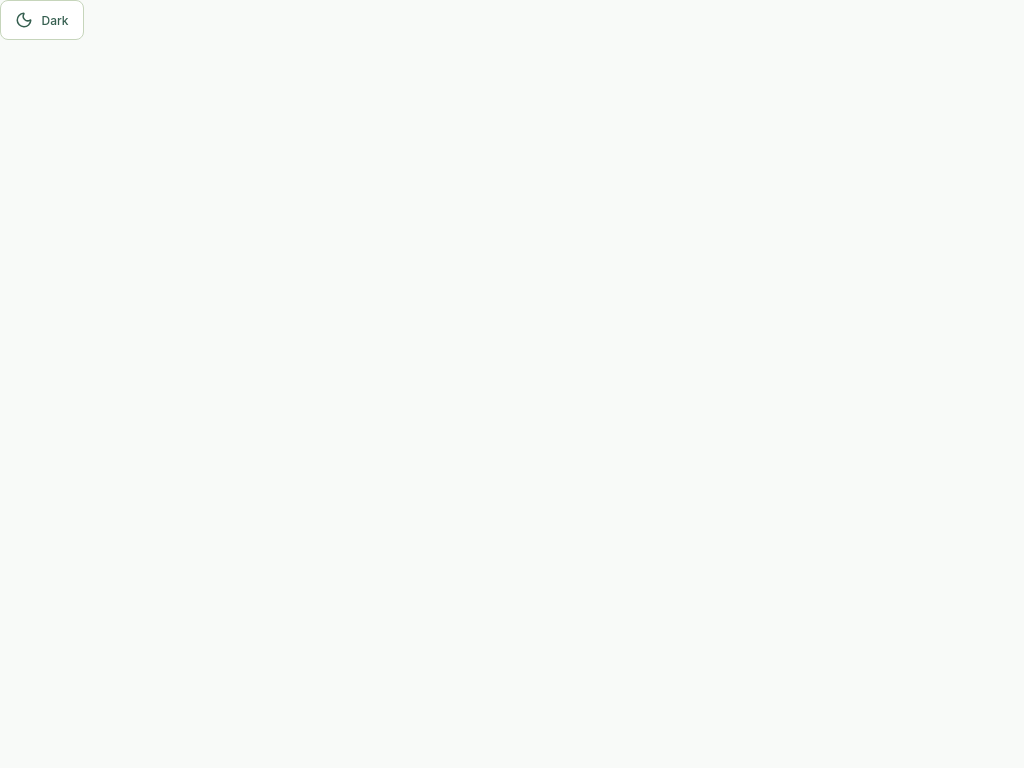
Test: Theme preference › defaults to light, changes the document theme, and saves the preference
This screenshot has width=1024, height=768.
Click the button with aria-label "Switch to dark theme" at (42,20), box [0, 0, 84, 40]
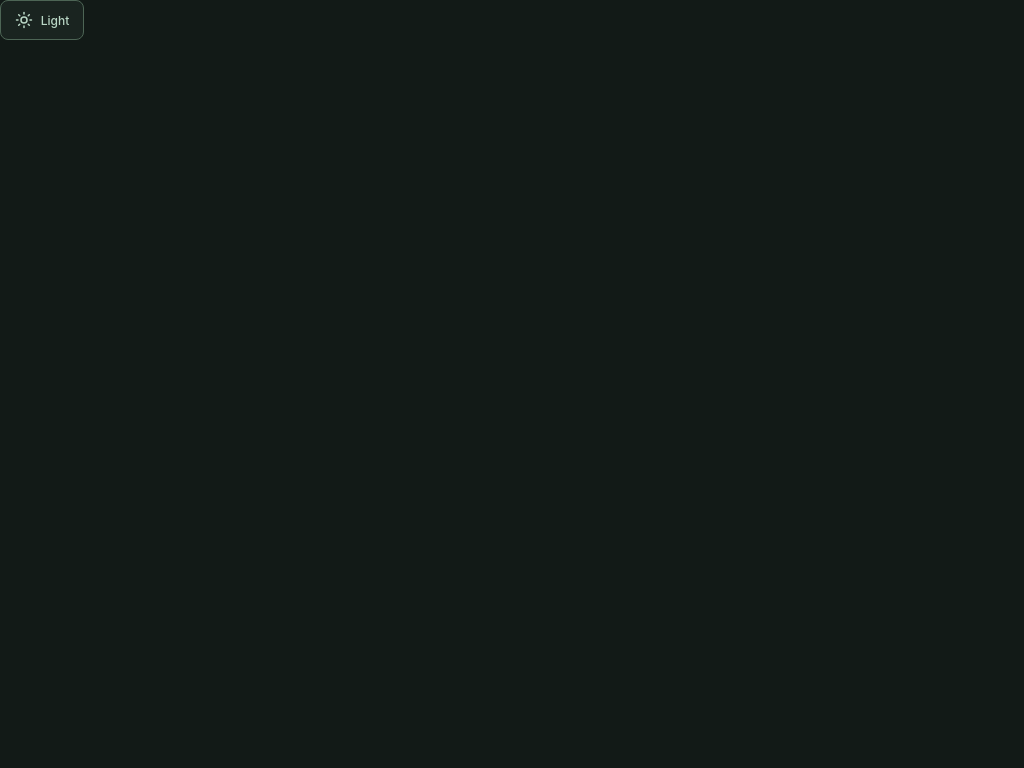
Expected: the button with aria-label "Switch to light theme" is pressed, [0, 0, 84, 40]
